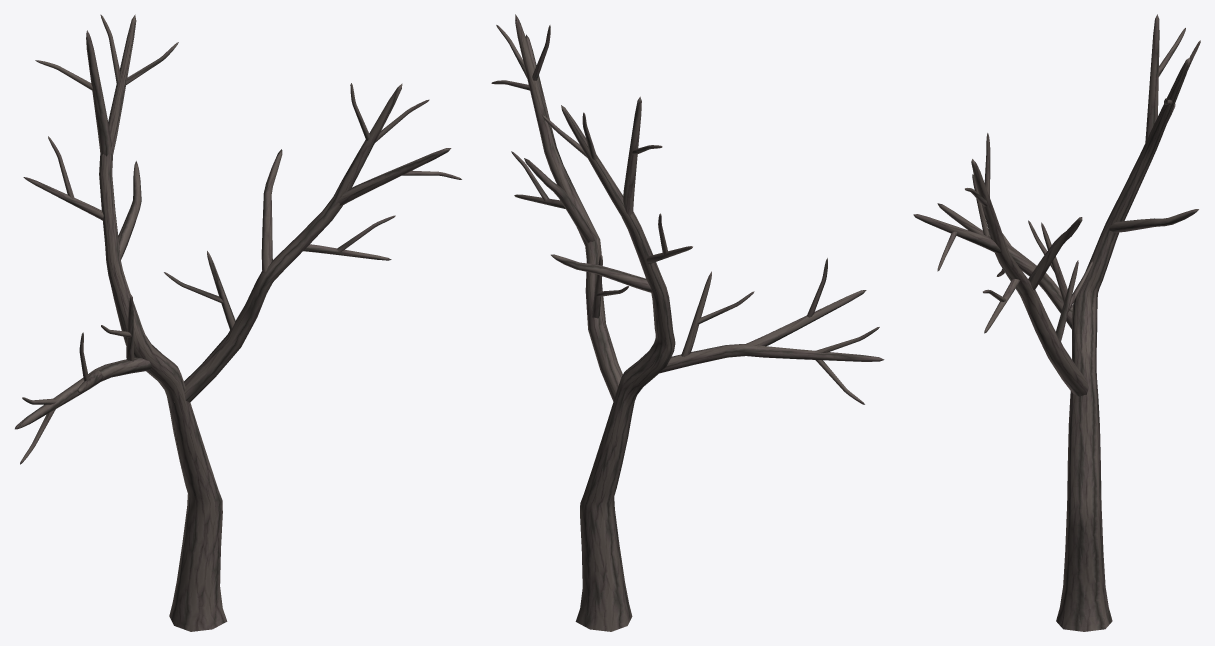
File: DeadTree_10.glb
The picture shows the model from 3 angles, left to right: view 1: azimuth 30°, elevation 25°; view 2: azimuth 150°, elevation 25°; view 3: azimuth 270°, elevation 25°; orthographic projection. The views are drawn at different scales.
Size of the model in its own units: 5.46 by 7.13 by 3.24.
Materials: 1 (1 with a texture image).
